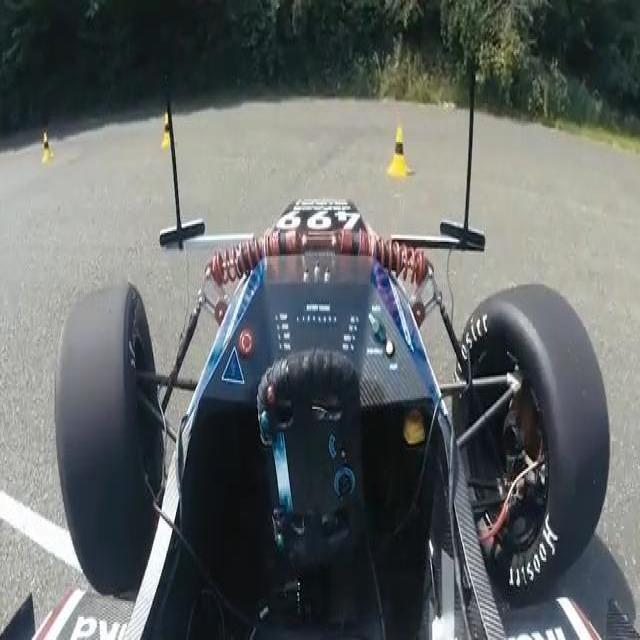yellow_cone: (386, 126, 412, 180), (161, 112, 175, 148), (42, 134, 53, 162)
